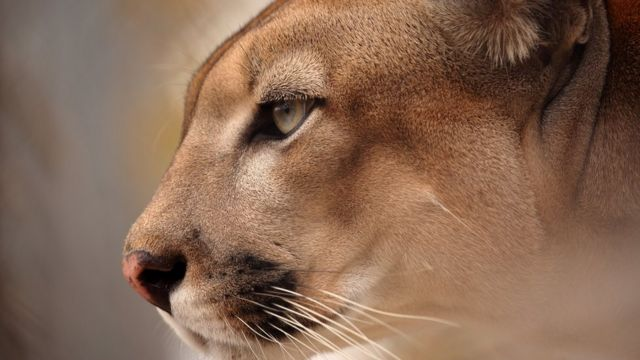OncaParda: (118, 2, 626, 354)
